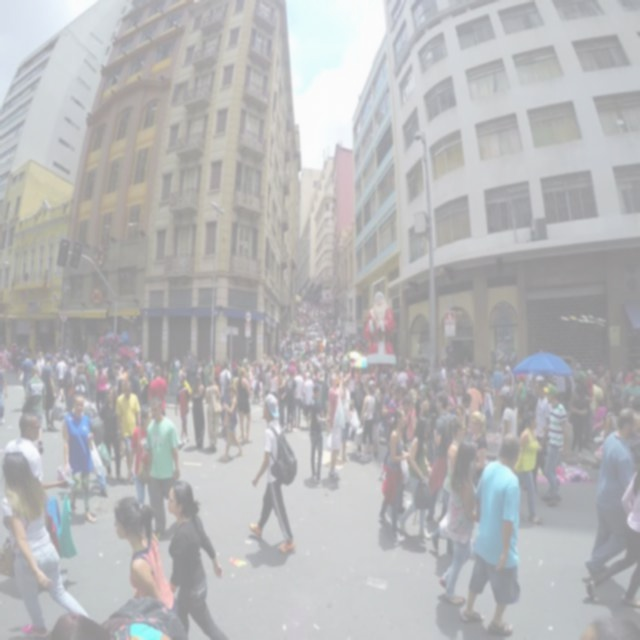pessoa: (0, 447, 96, 638), (456, 428, 524, 639), (166, 478, 230, 638), (582, 406, 640, 578), (246, 390, 299, 560), (111, 494, 180, 618), (584, 464, 640, 611), (39, 586, 191, 638), (436, 437, 481, 611), (264, 294, 344, 382), (429, 414, 467, 558), (145, 396, 181, 542), (4, 410, 68, 490), (61, 390, 98, 524), (69, 381, 111, 498), (590, 356, 640, 446), (378, 407, 411, 542), (424, 389, 457, 524), (398, 414, 432, 542), (538, 384, 568, 508), (395, 345, 443, 420), (530, 378, 560, 496), (514, 410, 544, 526), (326, 361, 354, 483), (363, 289, 396, 382), (114, 377, 141, 484), (126, 404, 153, 508), (306, 380, 331, 487), (98, 384, 125, 482), (567, 604, 639, 640), (22, 361, 48, 456), (118, 342, 156, 402), (218, 382, 244, 464), (114, 377, 136, 463), (379, 382, 397, 484), (379, 380, 398, 472), (568, 379, 589, 462), (468, 409, 488, 491), (40, 352, 60, 430), (358, 381, 377, 463), (576, 369, 594, 452), (174, 370, 192, 450), (204, 374, 222, 454), (236, 366, 254, 444), (217, 358, 234, 438), (180, 350, 214, 390), (190, 372, 207, 450), (338, 373, 352, 464), (496, 384, 518, 439), (368, 378, 382, 462), (447, 361, 471, 408), (148, 364, 168, 420), (49, 344, 92, 369), (478, 363, 493, 428), (344, 330, 363, 380), (52, 353, 70, 404), (73, 354, 92, 402), (94, 362, 110, 418), (301, 369, 315, 432), (60, 354, 74, 416), (4, 339, 26, 377), (284, 368, 297, 432), (465, 379, 483, 422), (293, 366, 305, 430), (352, 378, 368, 426), (454, 392, 474, 430), (525, 368, 544, 408), (276, 370, 288, 430), (21, 349, 36, 396), (104, 358, 116, 406), (154, 355, 170, 388), (102, 358, 117, 393), (220, 353, 240, 378), (251, 358, 261, 406), (347, 380, 355, 440), (320, 371, 330, 418), (28, 345, 48, 367), (592, 442, 607, 470), (87, 358, 96, 404), (0, 376, 8, 427), (111, 361, 124, 392), (268, 366, 278, 402), (400, 393, 412, 423), (256, 354, 264, 398), (491, 362, 504, 389), (169, 358, 178, 396), (177, 362, 189, 390), (94, 341, 103, 378), (34, 349, 44, 379), (503, 372, 515, 397), (504, 362, 516, 387), (312, 382, 323, 409), (264, 362, 272, 398), (240, 352, 256, 370), (0, 343, 9, 374), (213, 358, 222, 388), (550, 372, 558, 404), (30, 356, 41, 378), (470, 361, 478, 391), (244, 369, 254, 392), (170, 353, 182, 371), (83, 369, 92, 392), (518, 378, 526, 402), (362, 378, 370, 401), (68, 370, 78, 388), (444, 364, 452, 386), (231, 376, 239, 396), (440, 361, 447, 383), (442, 373, 448, 392), (181, 366, 186, 384), (514, 379, 520, 392), (357, 380, 363, 392), (520, 377, 526, 388), (326, 382, 334, 389), (26, 344, 29, 354)
